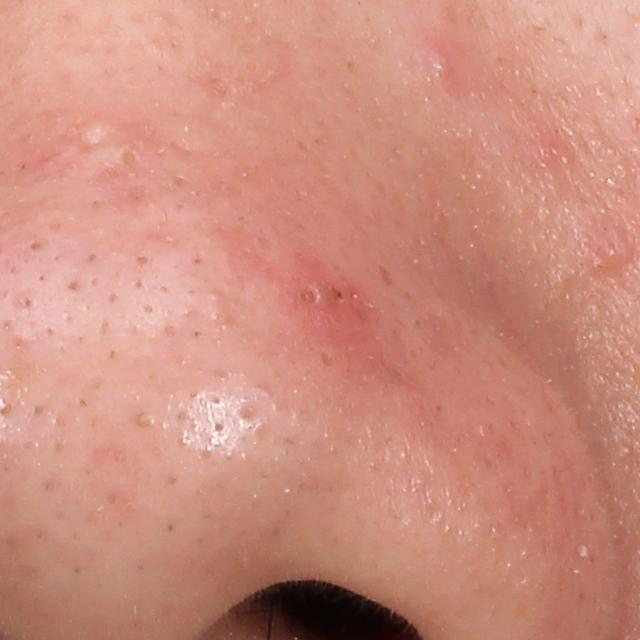comedo: (135, 407, 157, 432), (300, 286, 320, 309), (25, 235, 45, 254), (119, 149, 139, 167)
papule: (420, 41, 461, 94)
